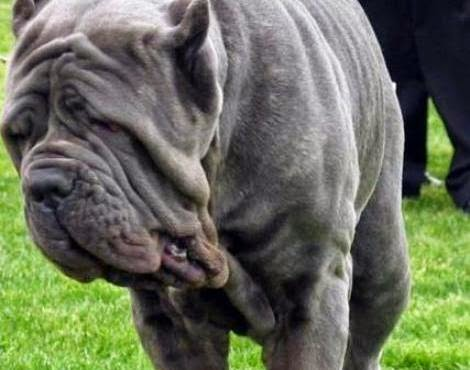neapolitan_mastiff: (0, 0, 411, 370)
